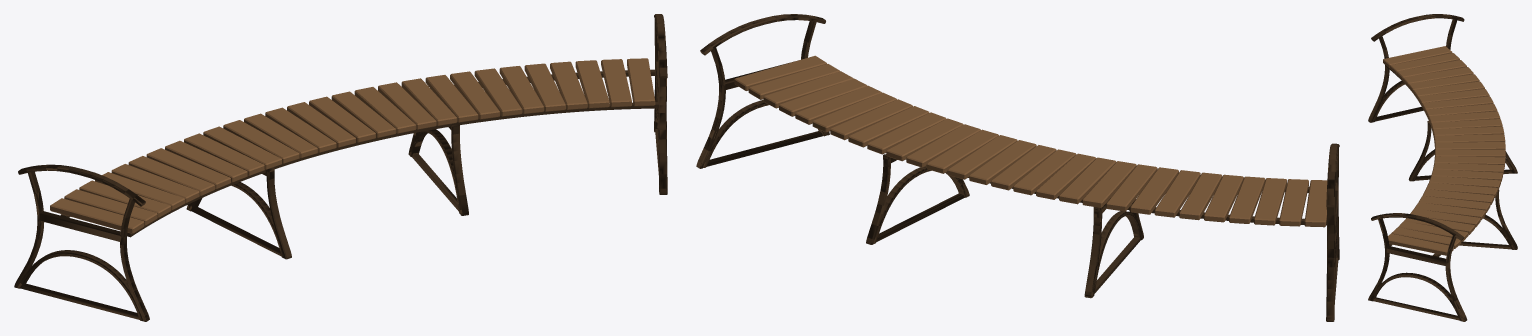
The picture shows the model from 3 angles, left to right: view 1: azimuth 30°, elevation 25°; view 2: azimuth 150°, elevation 25°; view 3: azimuth 270°, elevation 25°; orthographic projection. The views are drawn at different scales.
Visible parts, largest first — view 1: B_23_3; view 2: B_23_3; view 3: B_23_3.
Part boxes in pixels (x1=…): B_23_3: x1=14, y1=14, x2=667, y2=321; B_23_3: x1=696, y1=14, x2=1339, y2=321; B_23_3: x1=1368, y1=14, x2=1517, y2=321.
Size of the model in its own units: 356 by 69.73 by 101.
